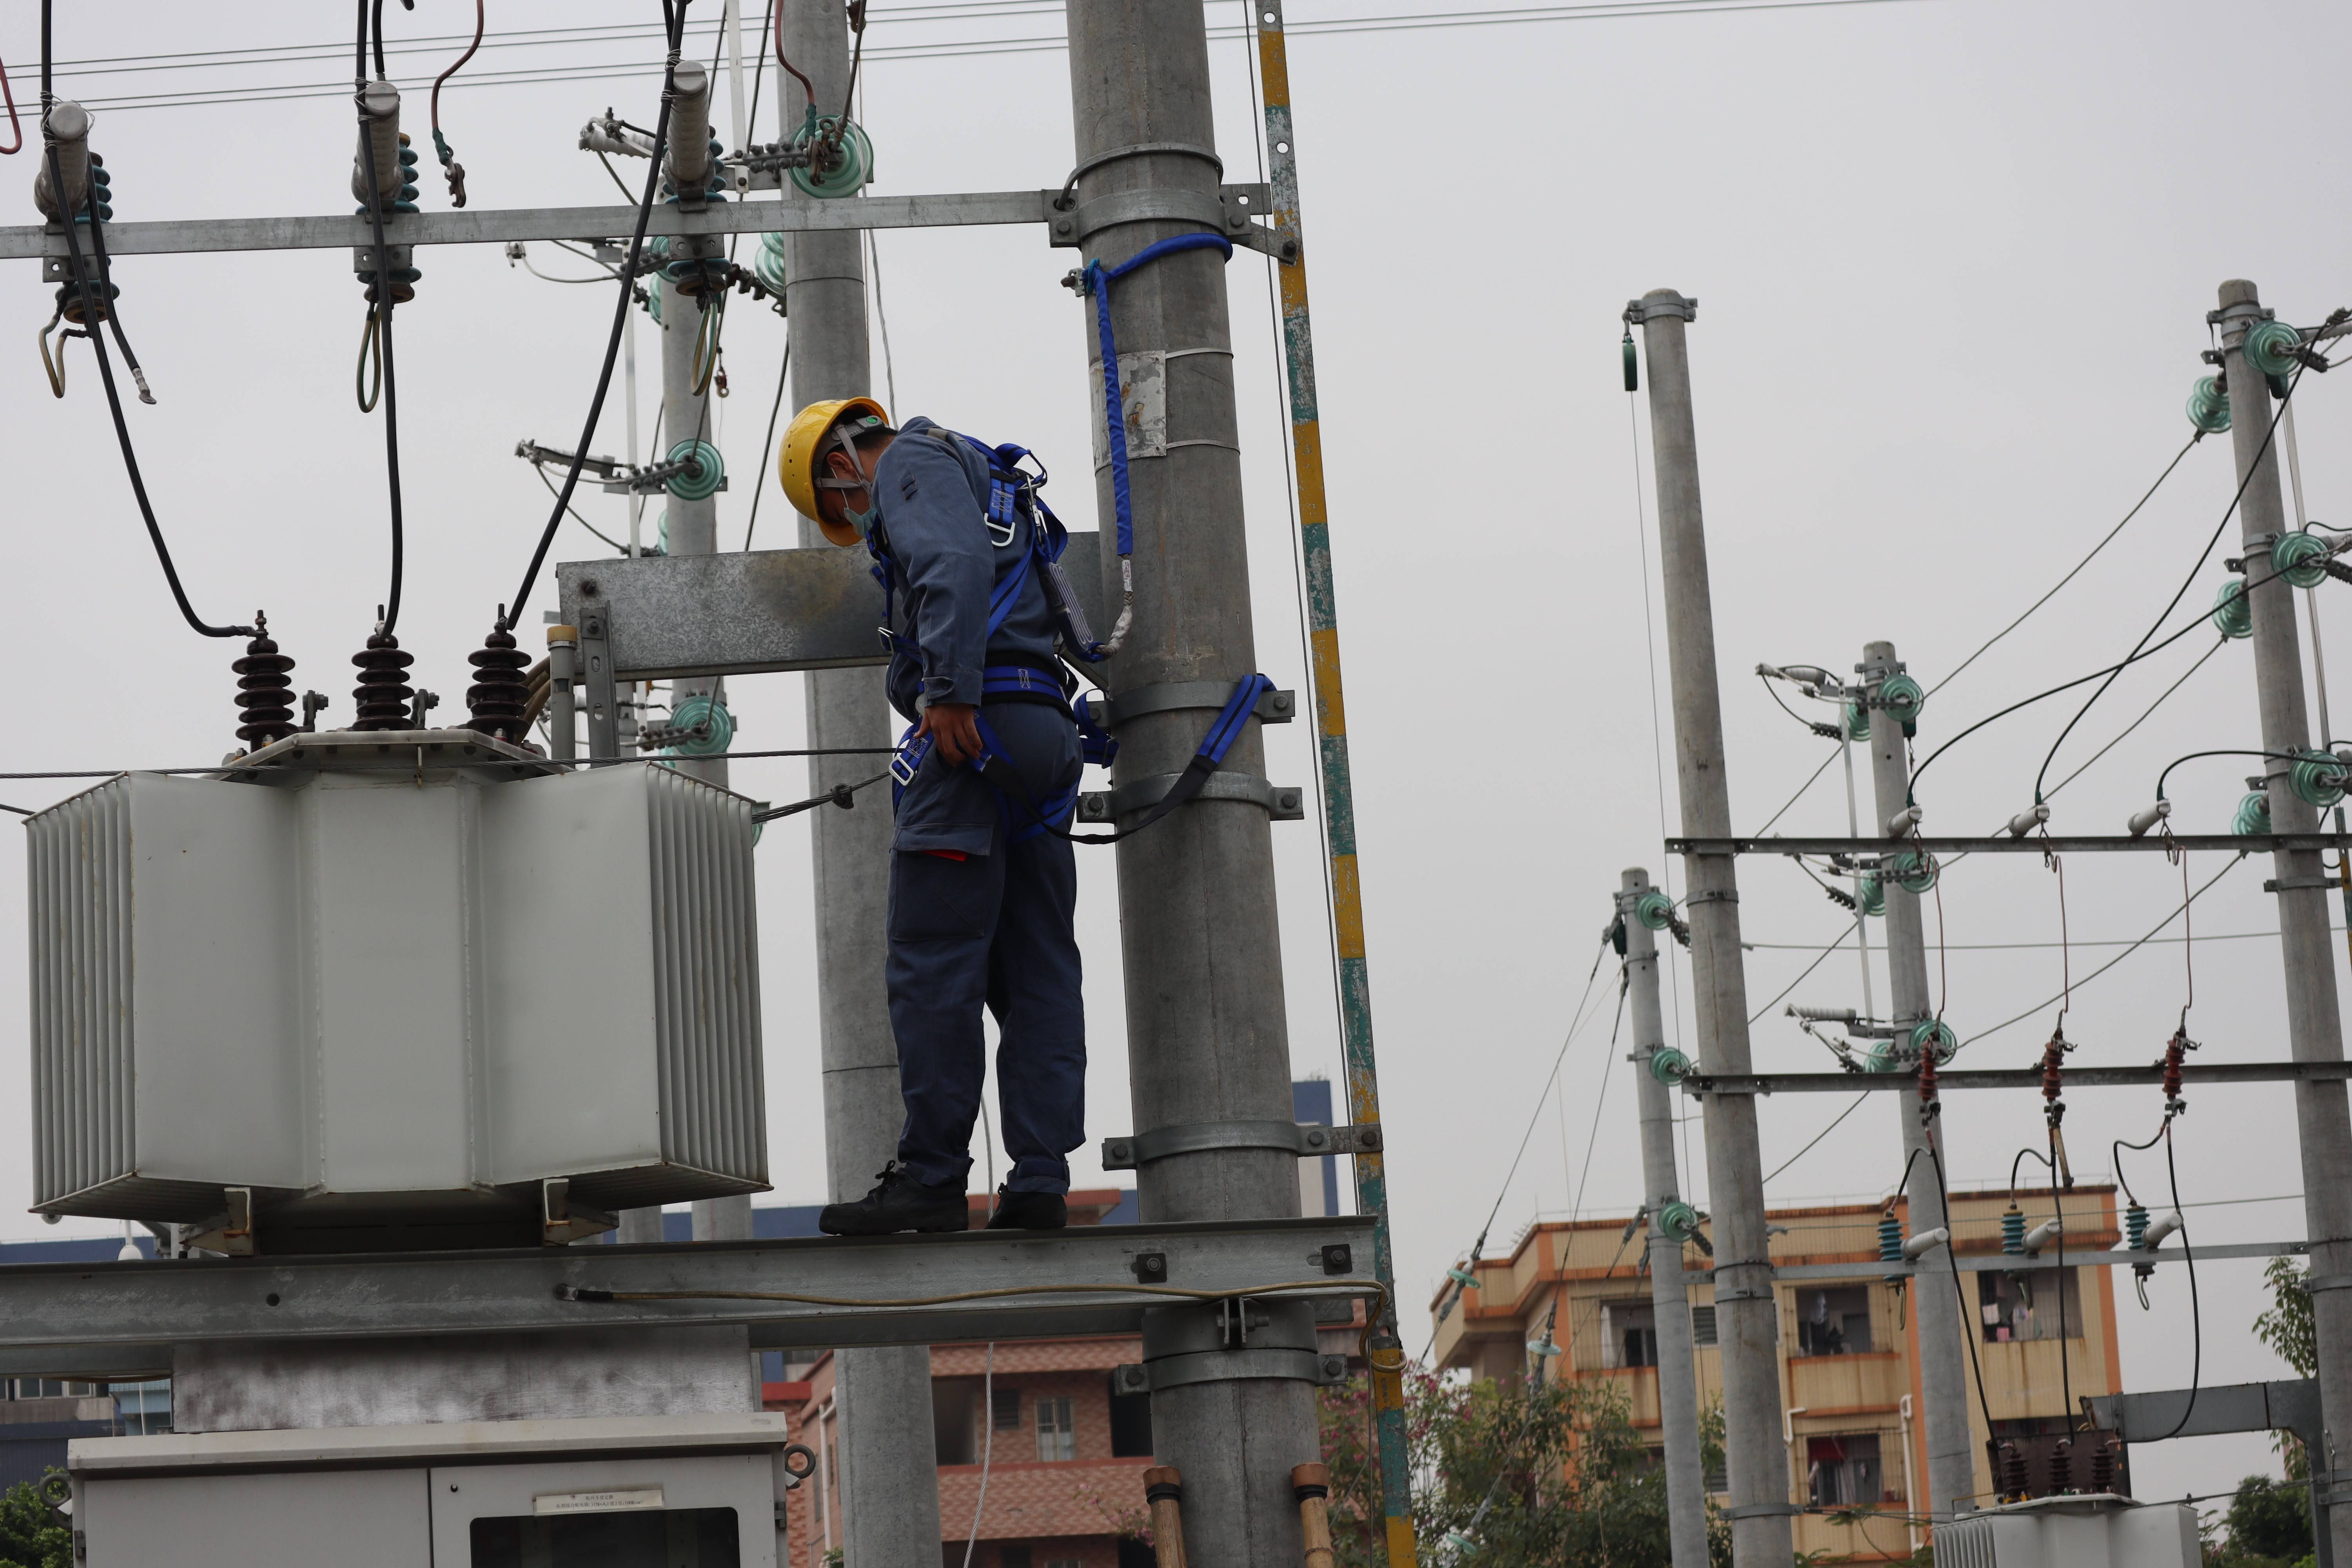downsuit: (884, 724, 1087, 1160)
upsuit: (865, 416, 1078, 695)
